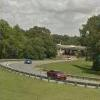Tree: (2, 18, 60, 58)
